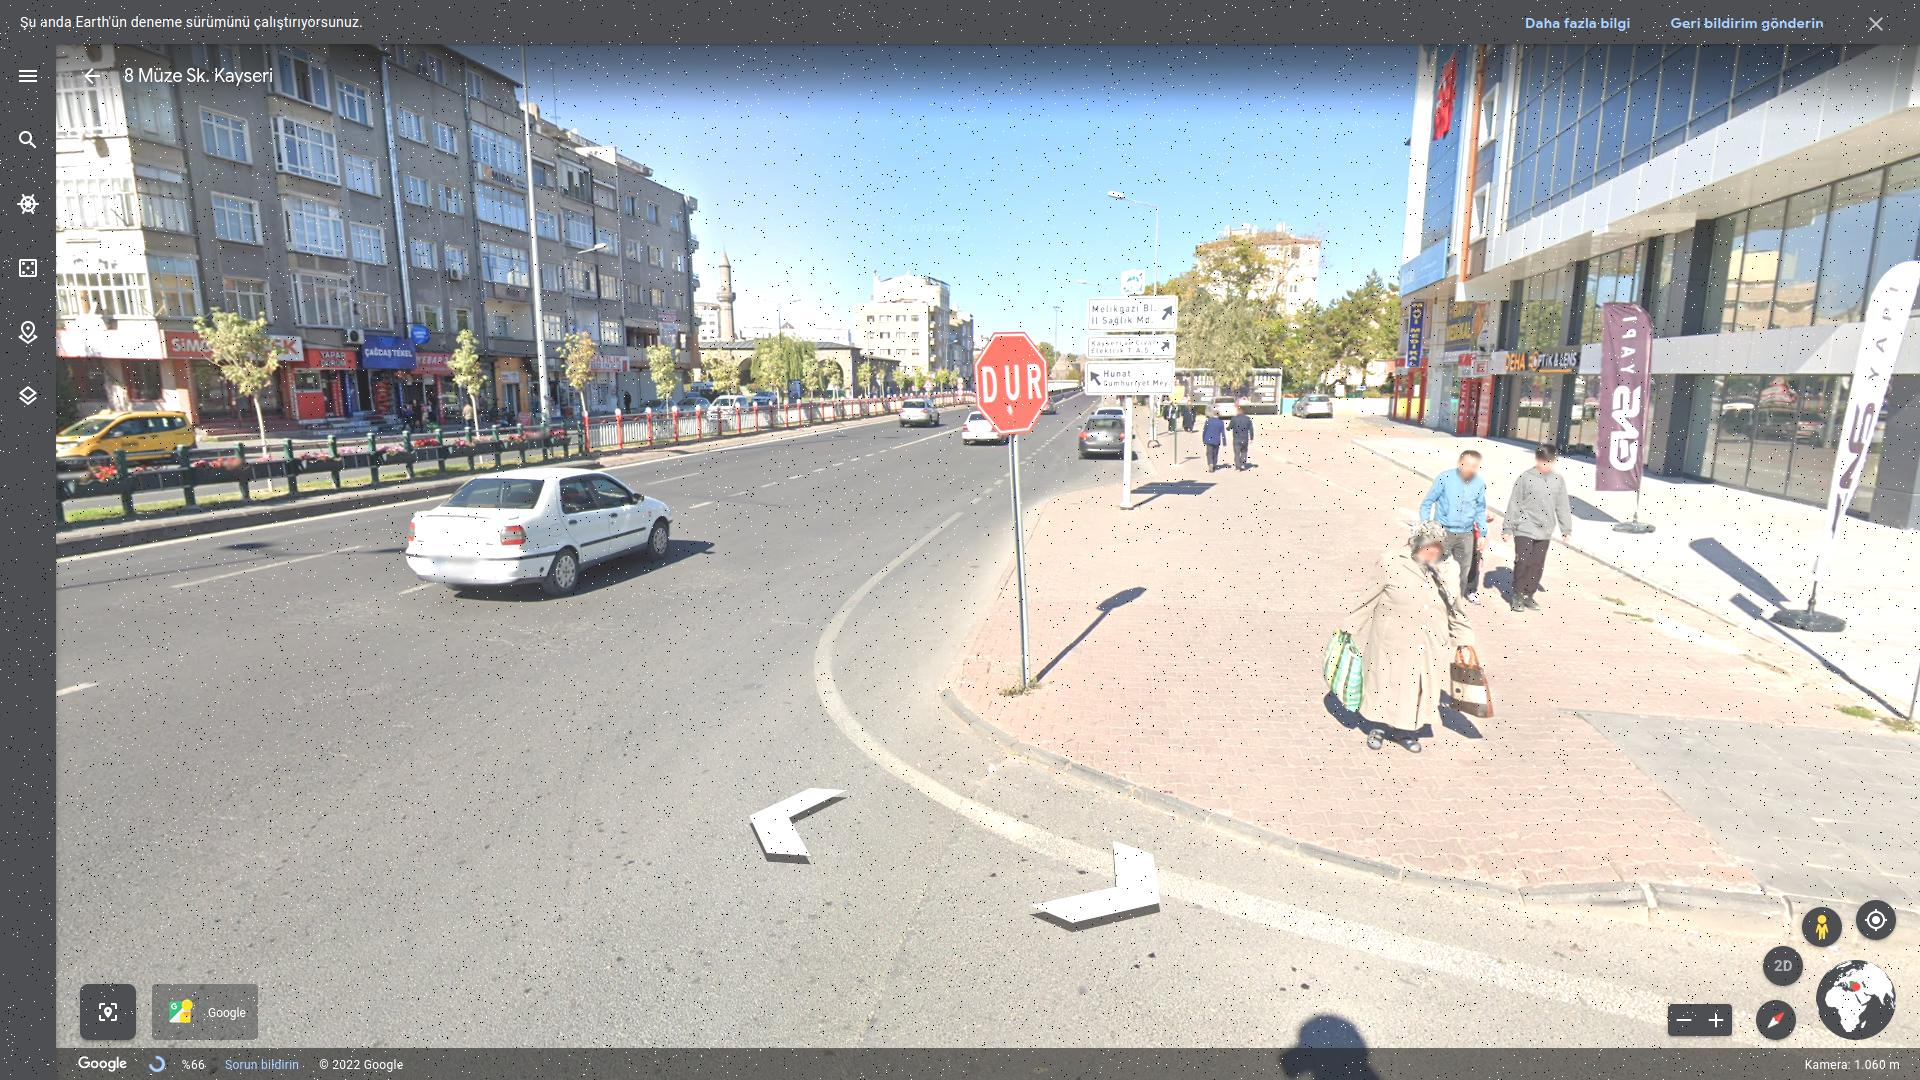stop: (976, 331, 1051, 435)
